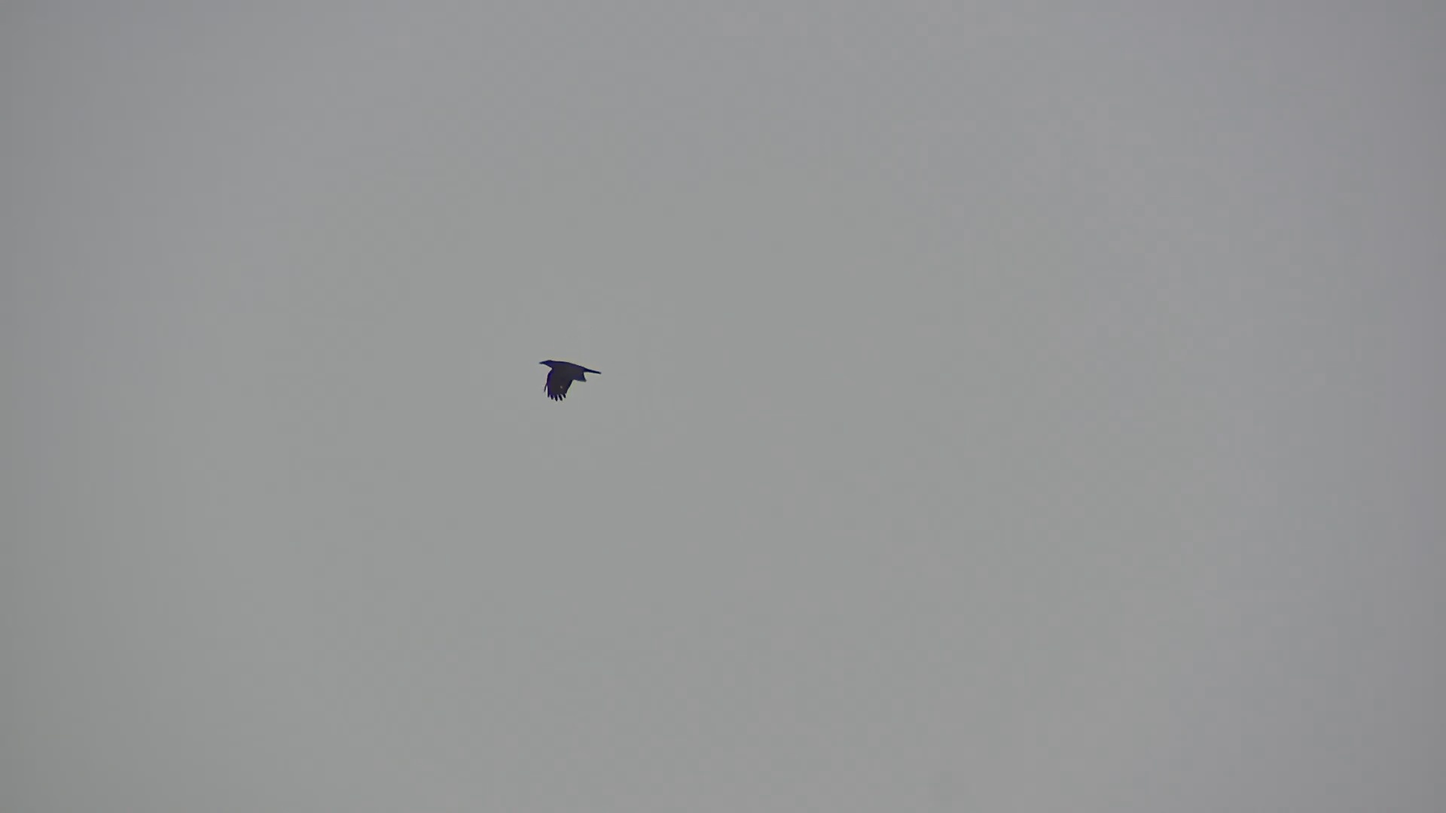Crow: (538, 358, 603, 401)
